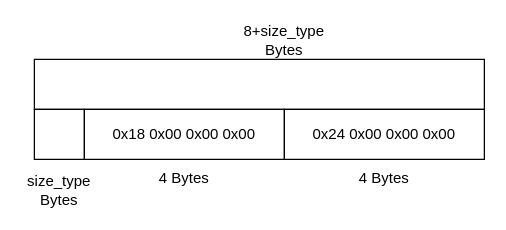
Some shapes in this 506 by 230 pixel diagram are drawn without their labels. Each missing label, with the centre of its shape:
"2 (长度)" belongs at (x=58, y=133).
"std::set<int>{42,24}" belongs at (x=258, y=83).
